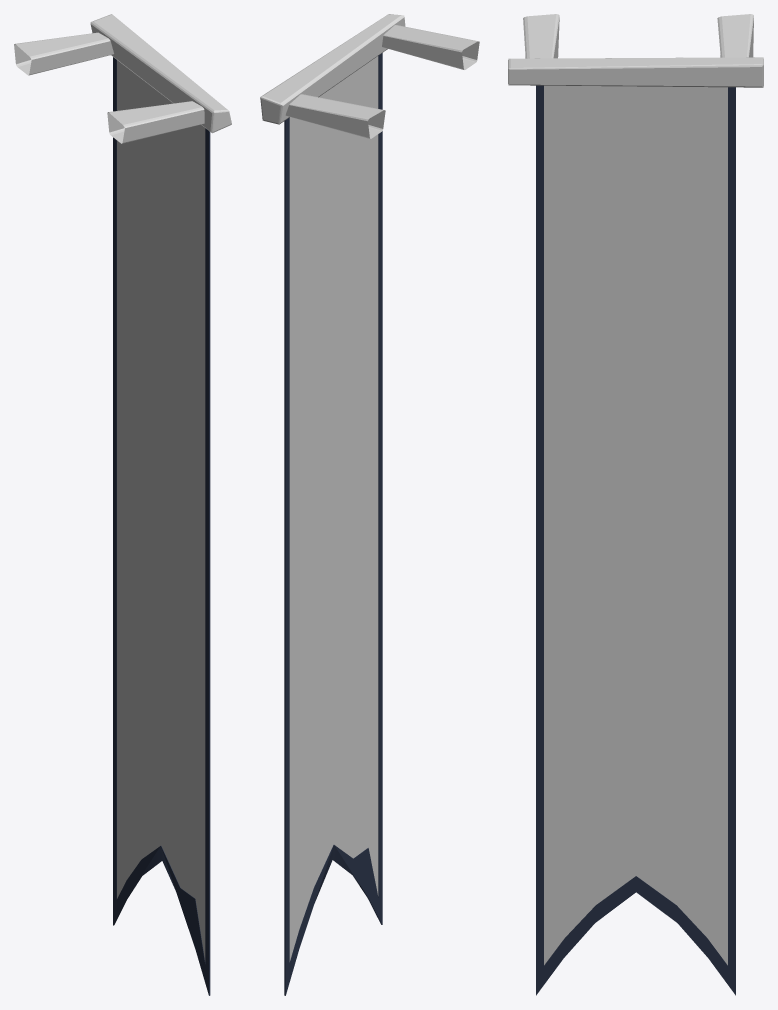
The model's file is WallBanner01.fbx.
3 views of the same model, side by side, from view 1: azimuth 30°, elevation 25°; view 2: azimuth 150°, elevation 25°; view 3: azimuth 270°, elevation 25° (orthographic). The views are drawn at different scales.
Visible parts, largest first — view 1: WallBanner_Ling, PoleBanner2, PoleLeg_Right, PoleLeg_Left; view 2: WallBanner_Ling, PoleBanner2, PoleLeg_Right, PoleLeg_Left; view 3: WallBanner_Ling, PoleBanner2, PoleLeg_Left, PoleLeg_Right.
Part boxes in pixels (x1,y1,x2,y2): WallBanner_Ling: (113,57,210,995); PoleBanner2: (90,14,231,133); PoleLeg_Right: (14,32,113,75); PoleLeg_Left: (107,101,204,143); WallBanner_Ling: (284,53,382,995); PoleBanner2: (260,14,405,124); PoleLeg_Right: (285,94,385,138); PoleLeg_Left: (382,25,479,69); WallBanner_Ling: (536,85,735,995); PoleBanner2: (508,57,763,87); PoleLeg_Left: (523,14,559,58); PoleLeg_Right: (717,14,753,57).
Size of the model in its own units: 169 by 1411 by 349.
